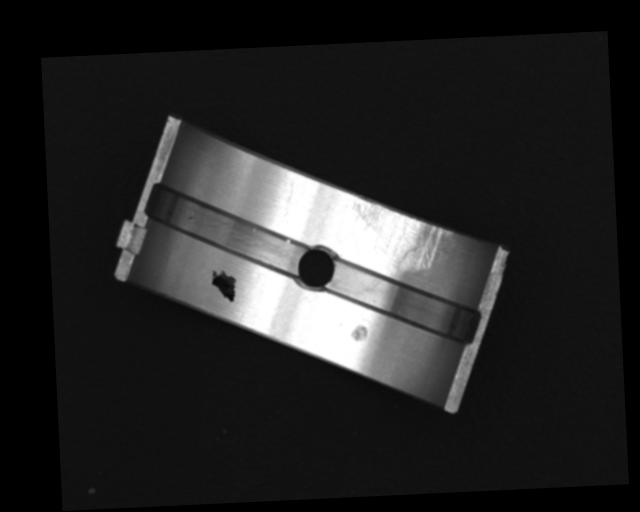blot: (209, 267, 238, 302)
bruise: (350, 322, 369, 342)
gap: (144, 180, 313, 283), (325, 252, 485, 350)
hole: (292, 241, 338, 294)
nick: (279, 176, 297, 218)
scratch: (351, 191, 456, 276)
